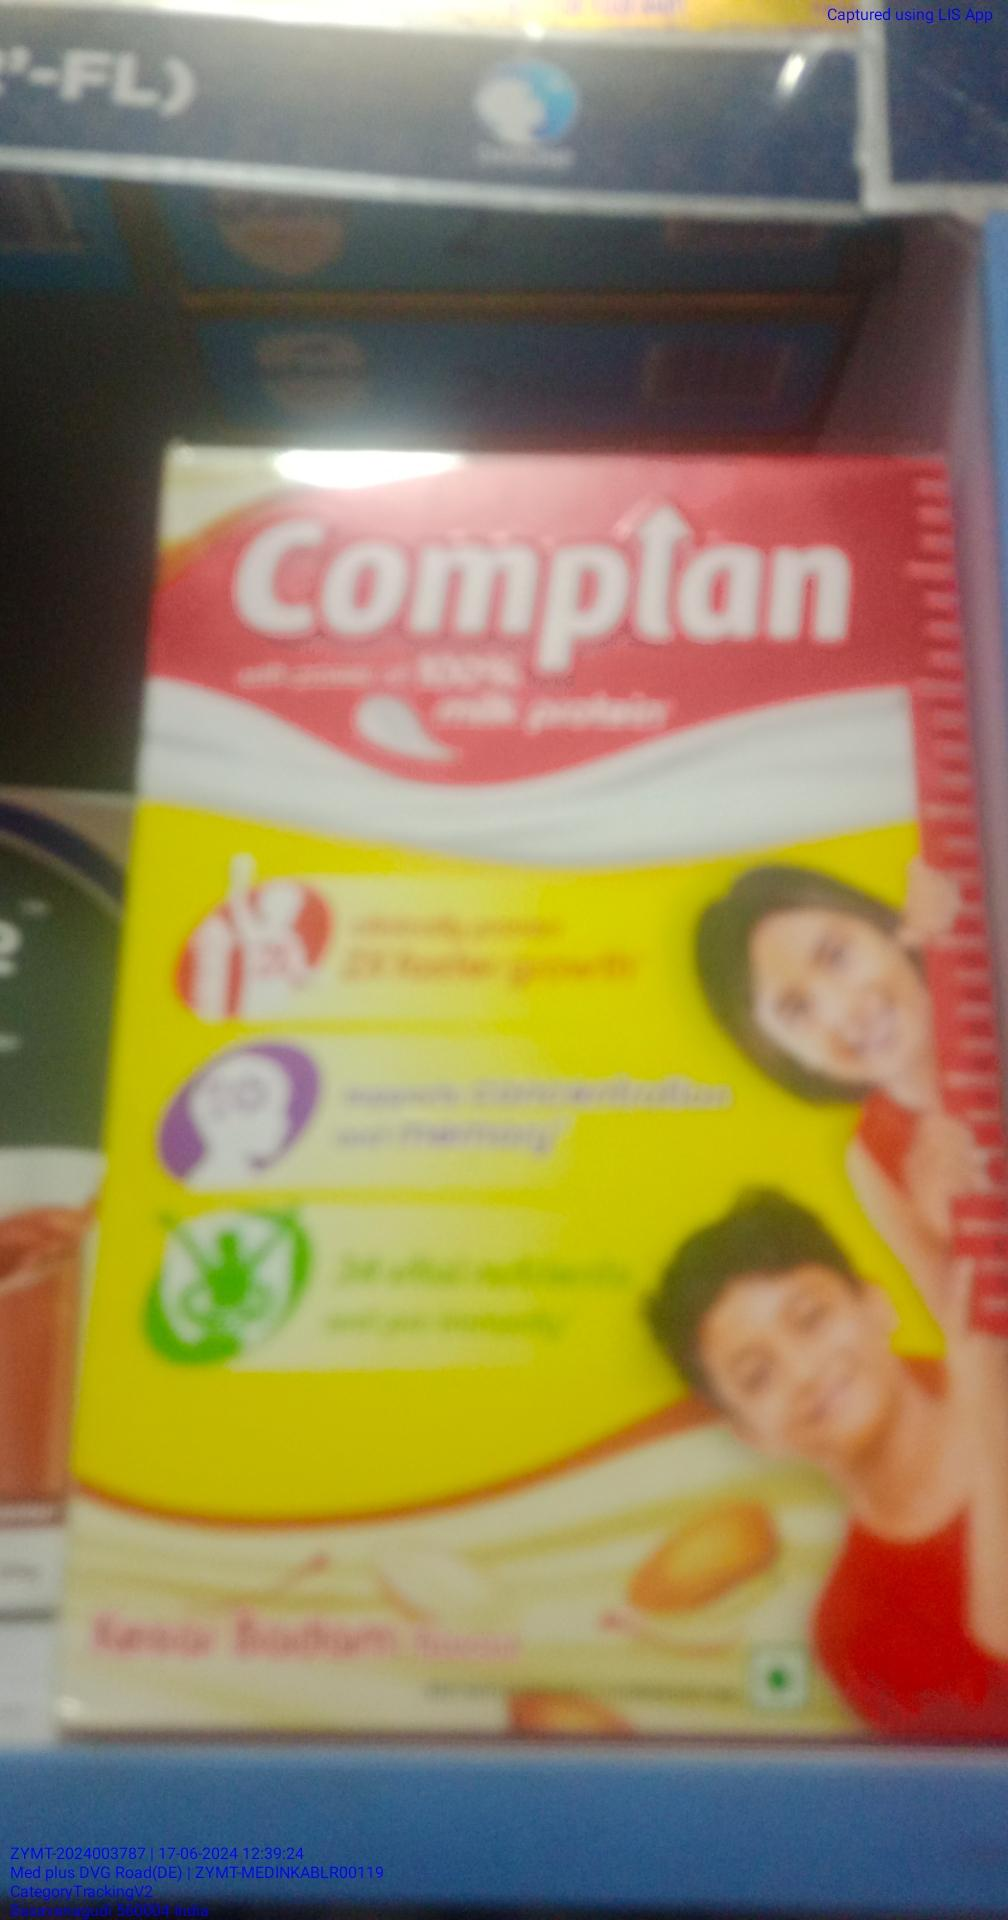COMPLAN_KESAR_BADAM_500_GMS_PACK: (146, 455, 964, 1730)
